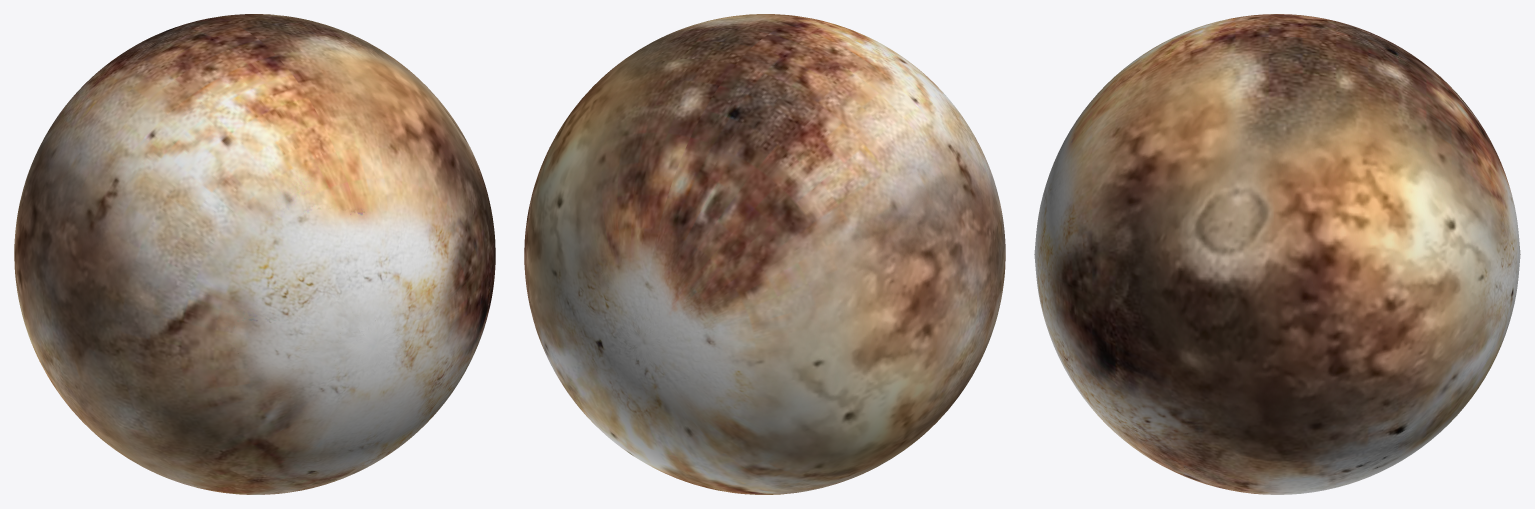
File: 13909_Pluto_v1_l3.obj
The picture shows the model from 3 angles, left to right: view 1: azimuth 30°, elevation 25°; view 2: azimuth 150°, elevation 25°; view 3: azimuth 270°, elevation 25°; orthographic projection.
Parts seen in each view (by area): view 1: Pluto; view 2: Pluto; view 3: Pluto.
Part boxes in pixels (bbox=[...]): Pluto: bbox=[14, 14, 495, 494]; Pluto: bbox=[524, 14, 1005, 494]; Pluto: bbox=[1034, 14, 1520, 494].
Size of the model in its own units: 969 by 969 by 979.
